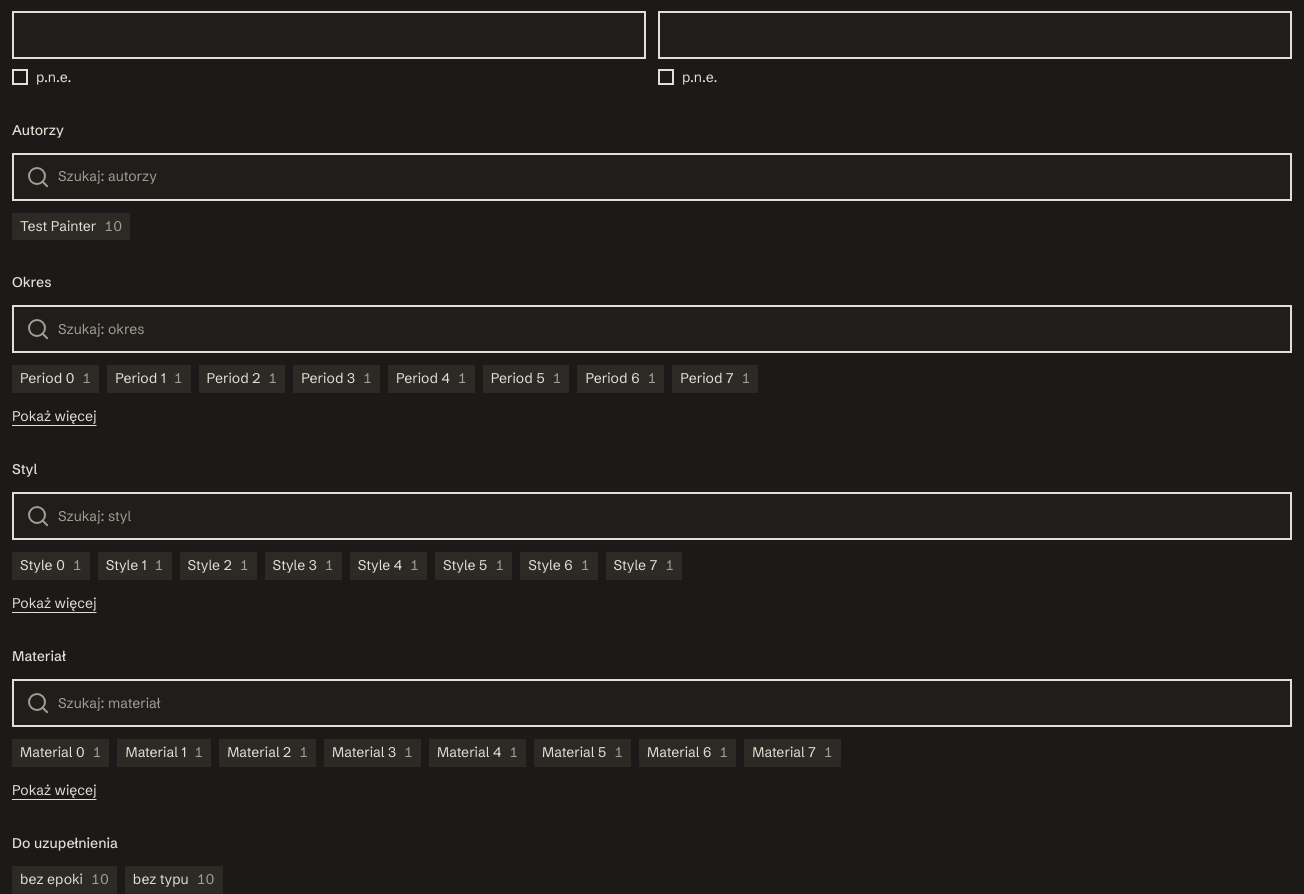
Test case: FilterPanel › shows the first values of every group and a button for the rest
(page scrolled)
Expected: the button "Pokaż więcej" below "Materiał" is shown, [12,779,96,801]
Click the 2nd button "Pokaż więcej".
click(54, 603)  # box [12,592,96,614]
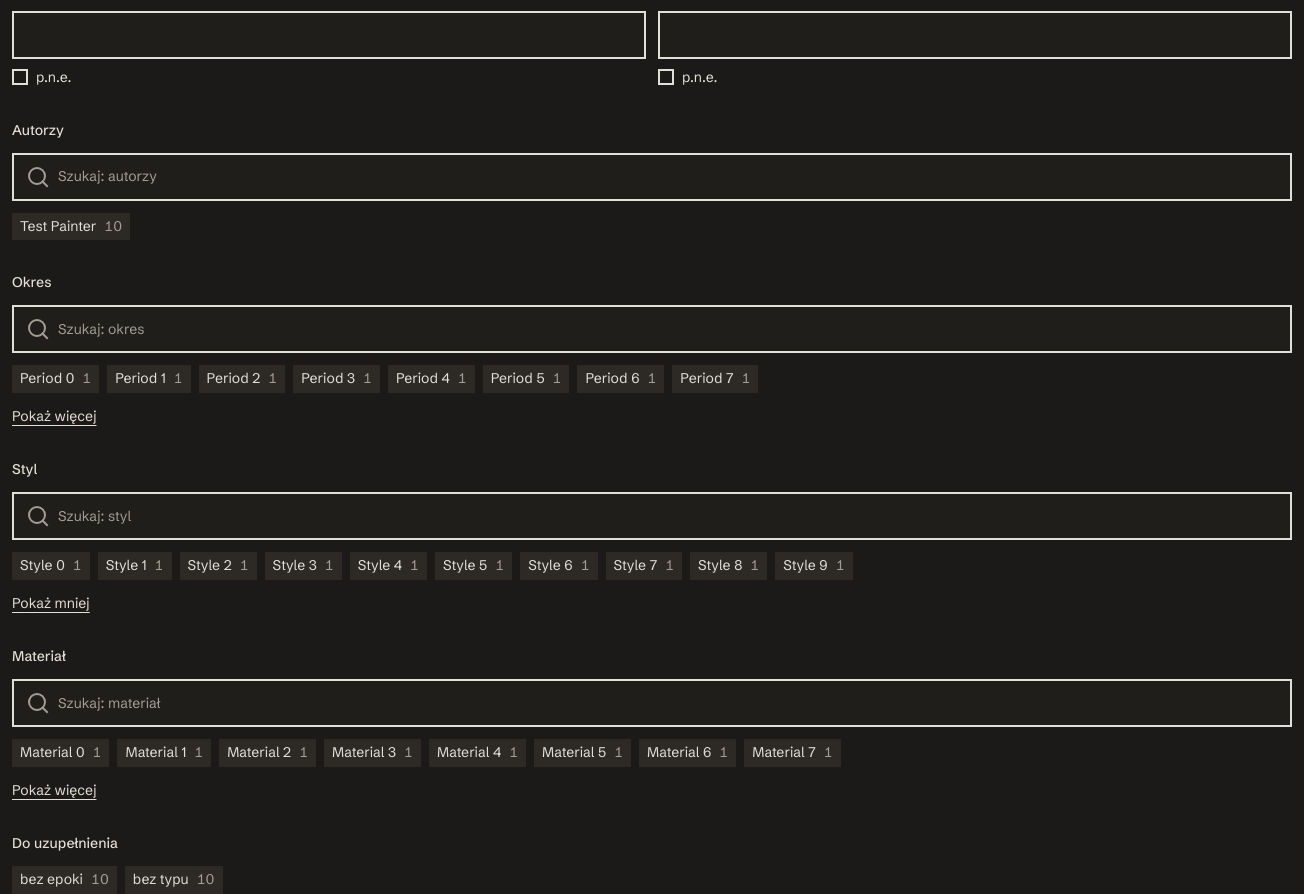
Now the text "Style 9" is shown, box [783,556,828,576]
